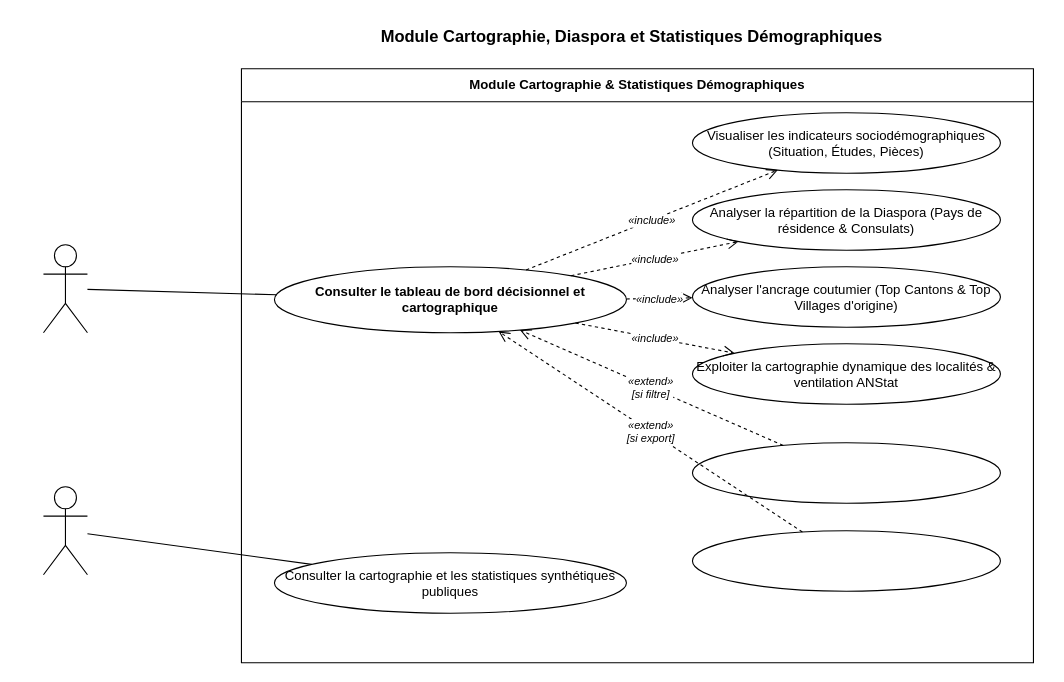
Some shapes in this 1064 by 682 pixel diagram are drawn without their labels. Here are the shapes that lost their labels. From the top down, the box of each, then its label:
(42, 244, 87, 333): Administrateur / Analyste
(691, 442, 1000, 503): Filtrer les indicateurs (par sous-préfecture, consulat ou période)
(42, 486, 87, 575): Visiteur simple (Public)
(691, 530, 1000, 591): Exporter les rapports et graphiques d'analyse (PDF / Excel)
